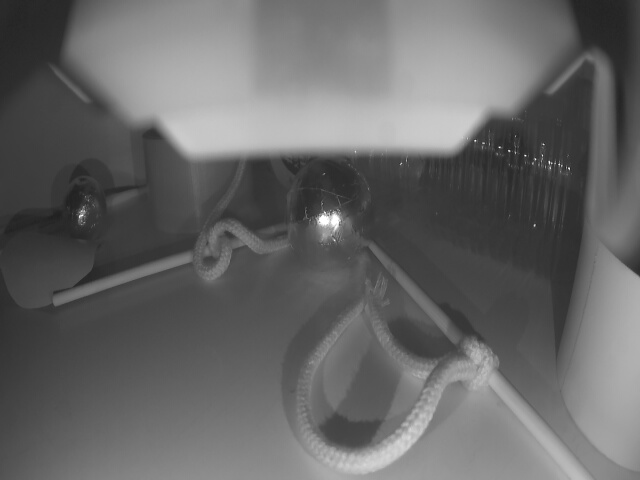Live: (284, 153, 375, 266), (61, 174, 108, 243)
